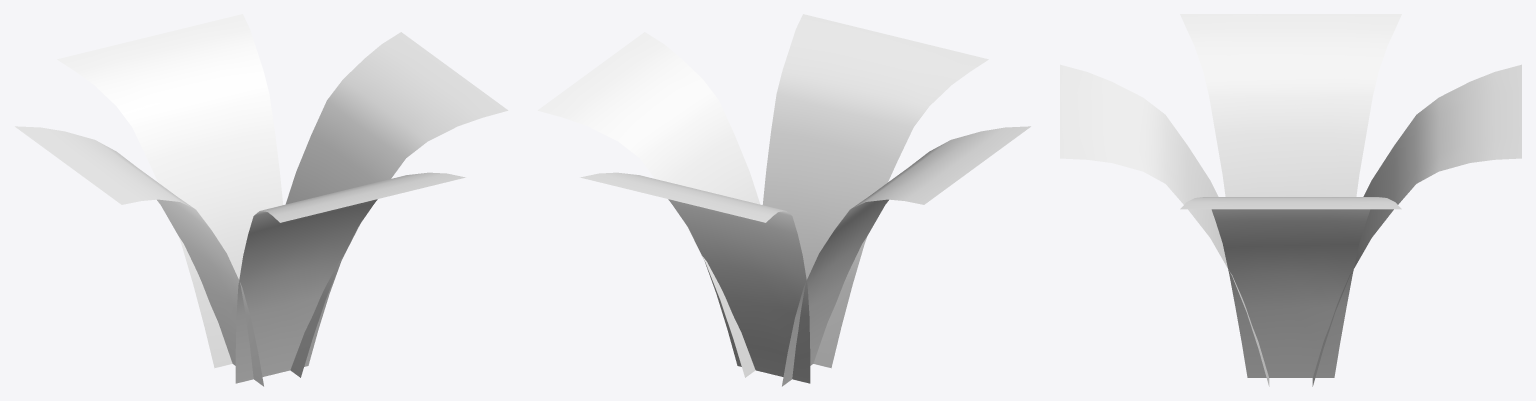
Rendered from arrow.fbx.
The picture shows the model from 3 angles, left to right: view 1: azimuth 30°, elevation 25°; view 2: azimuth 150°, elevation 25°; view 3: azimuth 270°, elevation 25°; orthographic projection. The views are drawn at different scales.
Visible parts, largest first — view 1: transformmovement_indicator4; view 2: transformmovement_indicator4; view 3: transformmovement_indicator4.
Part boxes in pixels (bbox=[...]): transformmovement_indicator4: bbox=[15, 14, 508, 386]; transformmovement_indicator4: bbox=[537, 14, 1030, 386]; transformmovement_indicator4: bbox=[1060, 14, 1521, 386].
Size of the model in its own units: 47.21 by 29 by 47.21.
1 material, 1 textured.
